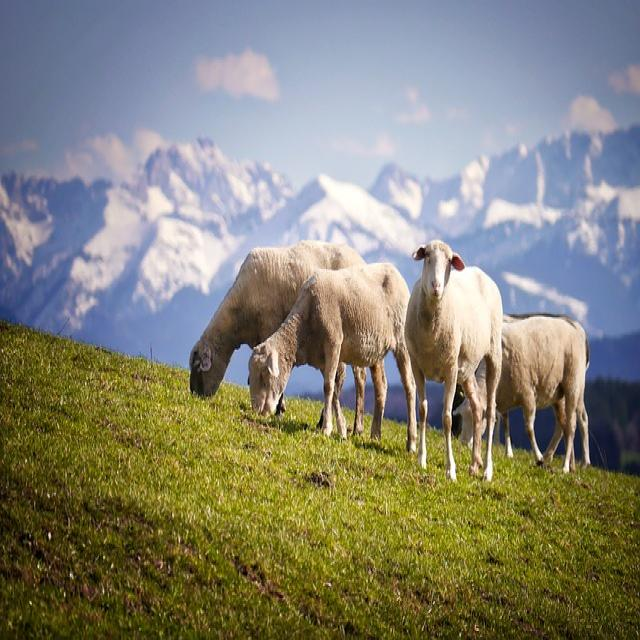goat: (248, 263, 416, 452), (190, 242, 366, 400), (403, 243, 505, 481), (496, 315, 591, 475)
